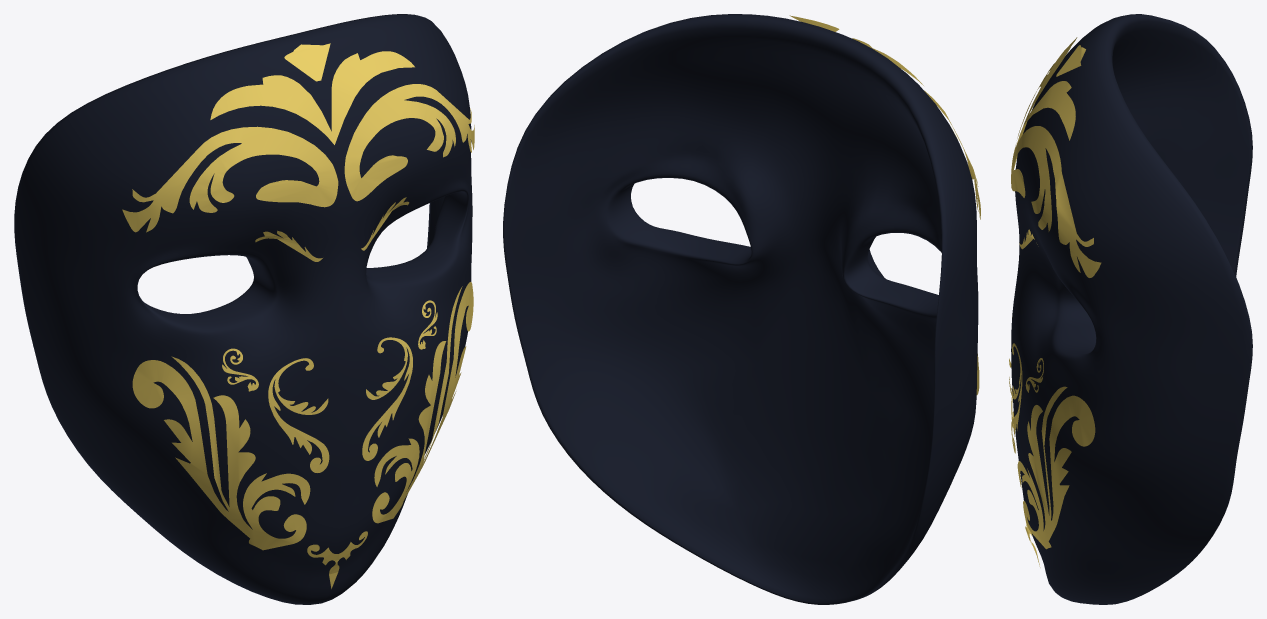
File: Mask_Shine.fbx
3 views of the same model, side by side, from view 1: azimuth 30°, elevation 25°; view 2: azimuth 150°, elevation 25°; view 3: azimuth 270°, elevation 25° (orthographic). The views are drawn at different scales.
Visible parts, largest first — view 1: body_Circle; view 2: body_Circle; view 3: body_Circle.
Boxes of the visible parts, x1,y1,x2,y2 form: body_Circle: (14, 14, 474, 604); body_Circle: (503, 14, 980, 604); body_Circle: (1009, 14, 1252, 604).
Bounding box in the file's own units: 16.23 × 20.63 × 8.36.
